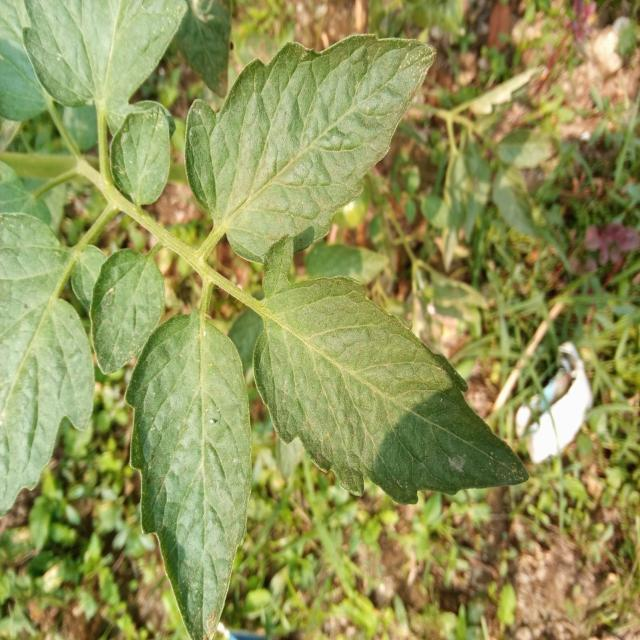Healthy: (150, 0, 484, 284), (120, 309, 265, 640), (0, 213, 94, 513), (90, 249, 164, 372), (109, 101, 172, 207)
